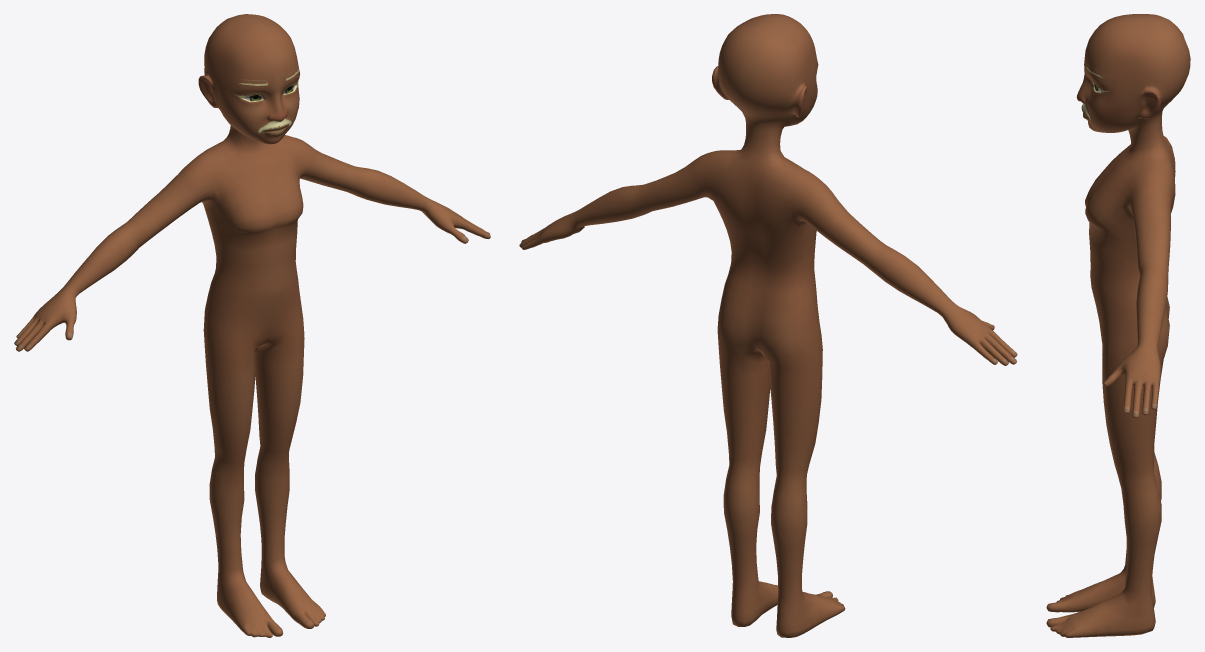
Rendered from frame_0054.glb.
The picture shows the model from 3 angles, left to right: view 1: azimuth 30°, elevation 25°; view 2: azimuth 150°, elevation 25°; view 3: azimuth 270°, elevation 25°; orthographic projection. The views are drawn at different scales.
Visible parts, largest first — view 1: frame_0054_head_geo; view 2: frame_0054_head_geo; view 3: frame_0054_head_geo.
Part boxes in pixels (x1,y1,x2,y2): frame_0054_head_geo: (14,14,490,637); frame_0054_head_geo: (519,14,1017,637); frame_0054_head_geo: (1046,14,1190,637).
Size of the model in its own units: 1.28 by 1.5 by 0.3253.
3 materials, 3 textured.
